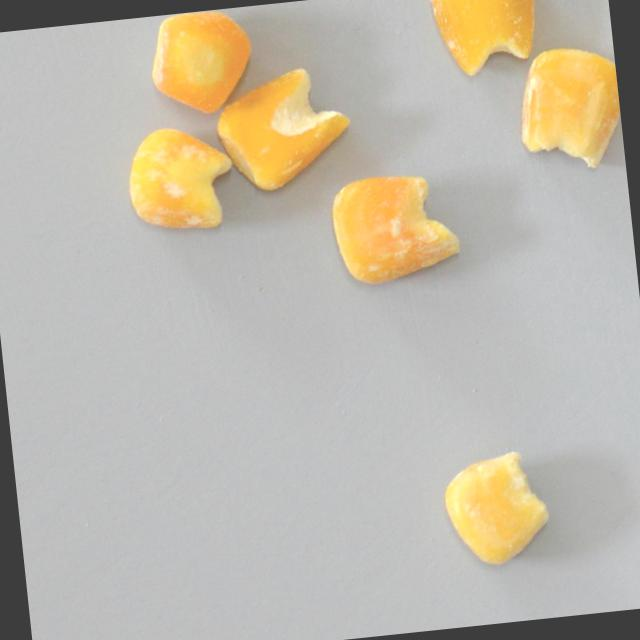pelicula: (212, 62, 357, 196), (328, 167, 466, 288), (512, 41, 625, 175), (439, 446, 556, 572), (123, 119, 239, 235), (145, 6, 261, 119), (432, 0, 543, 80)
